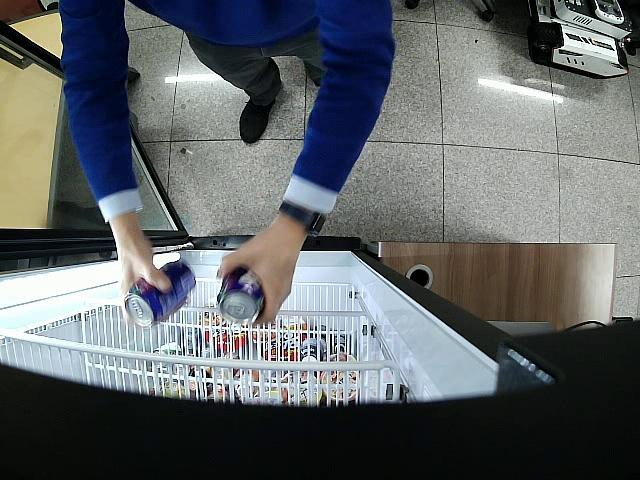00_hand: (217, 221, 300, 325), (111, 223, 171, 323)
14_welchsGrape: (125, 261, 196, 327), (216, 267, 265, 326)
